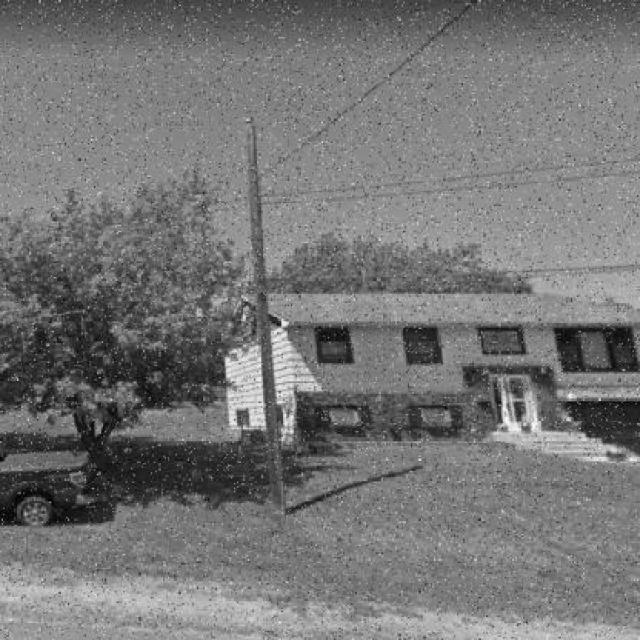pole: (138, 49, 367, 523)
